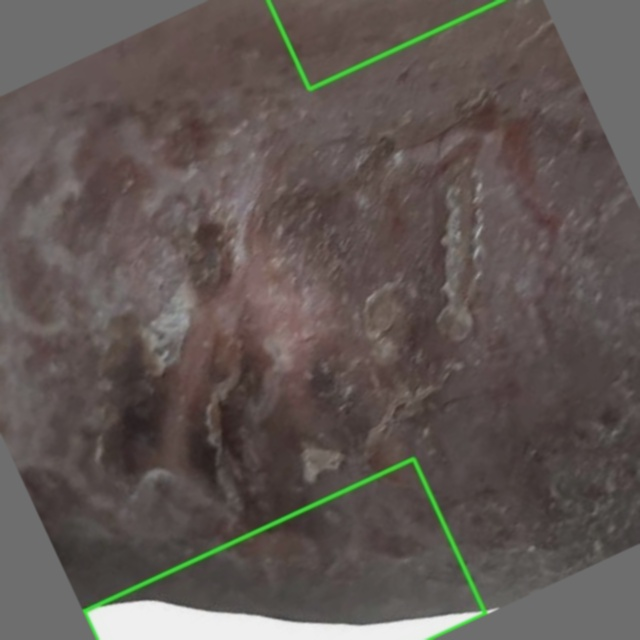Eczema: (83, 458, 485, 639)
